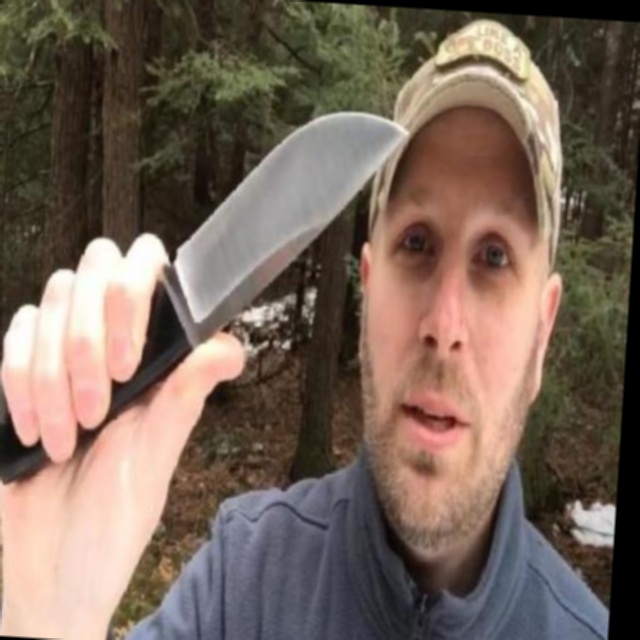Sharp-Object: (0, 92, 408, 508)
